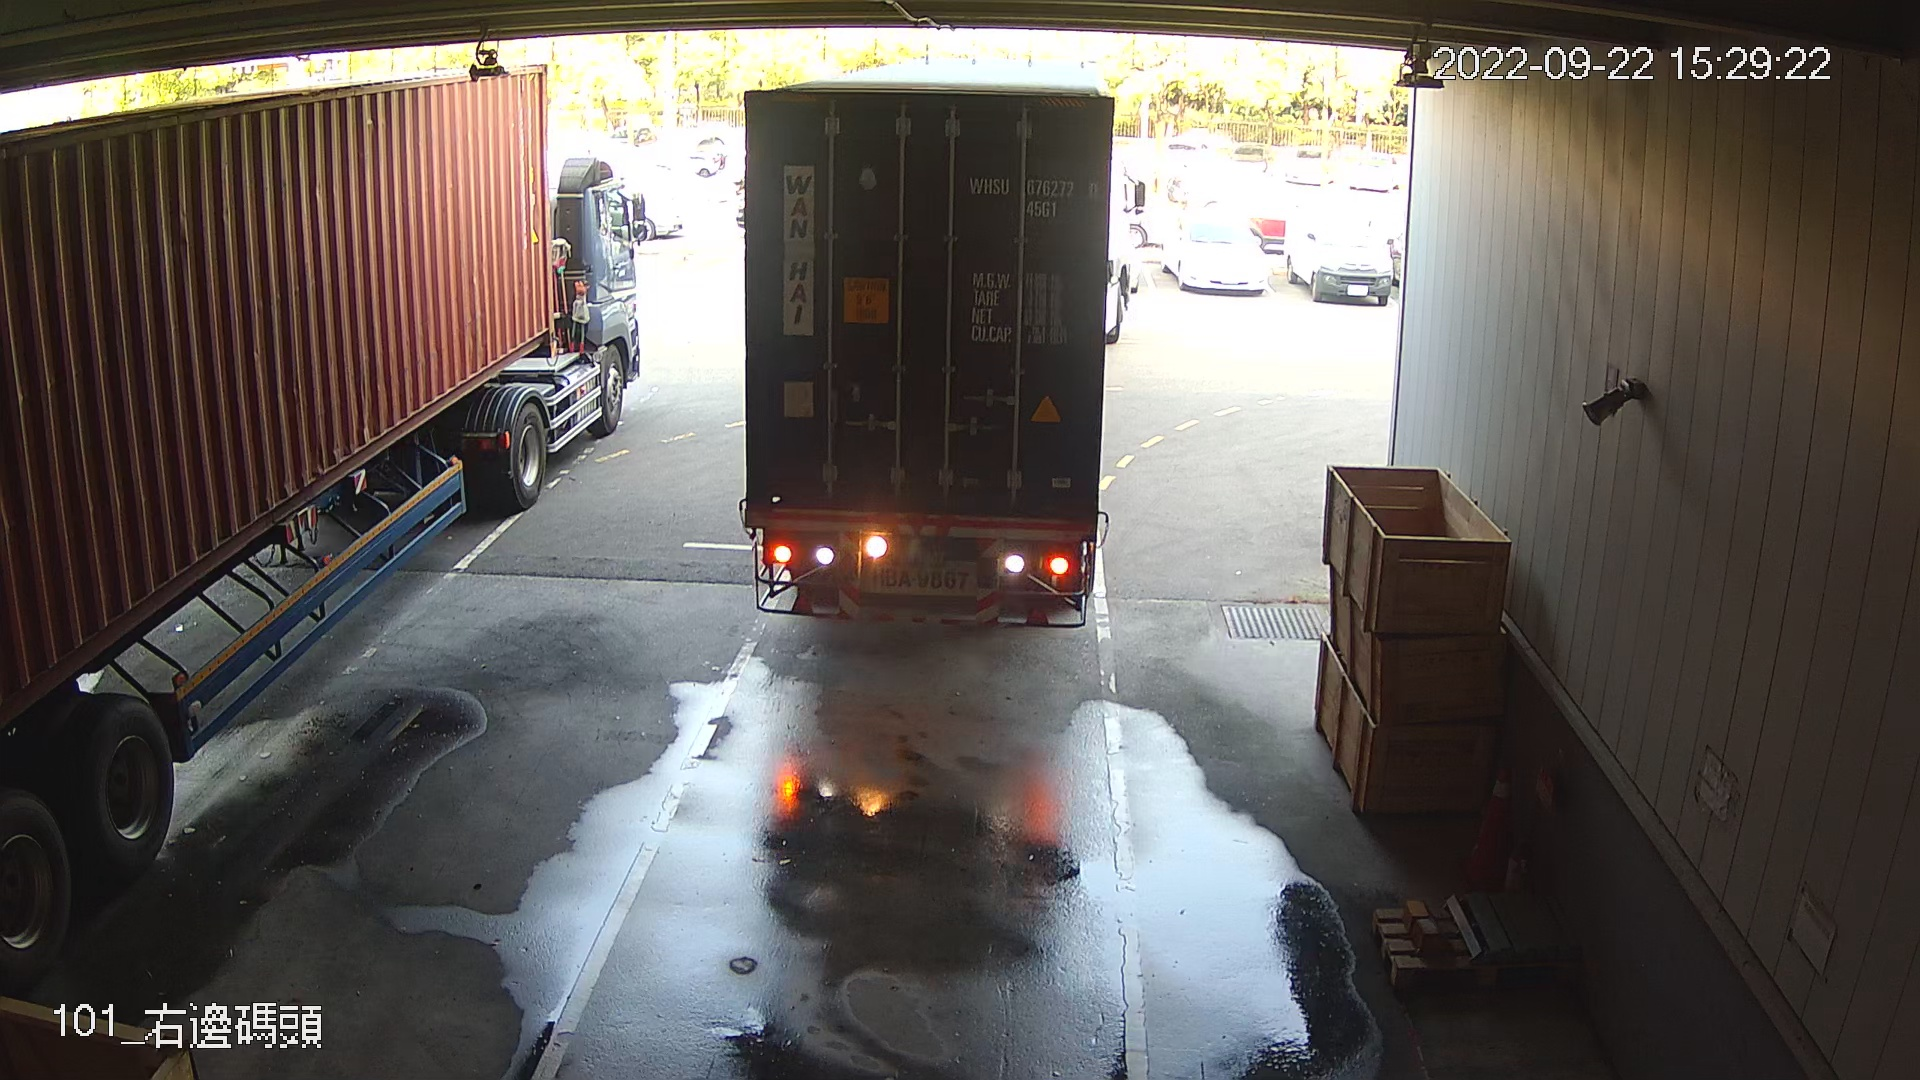container: (957, 169, 1102, 227)
